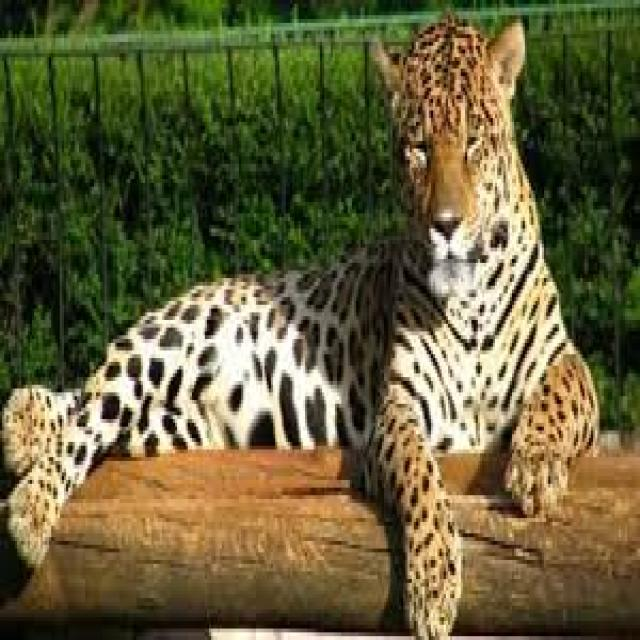Jaguar: (13, 19, 616, 591)
